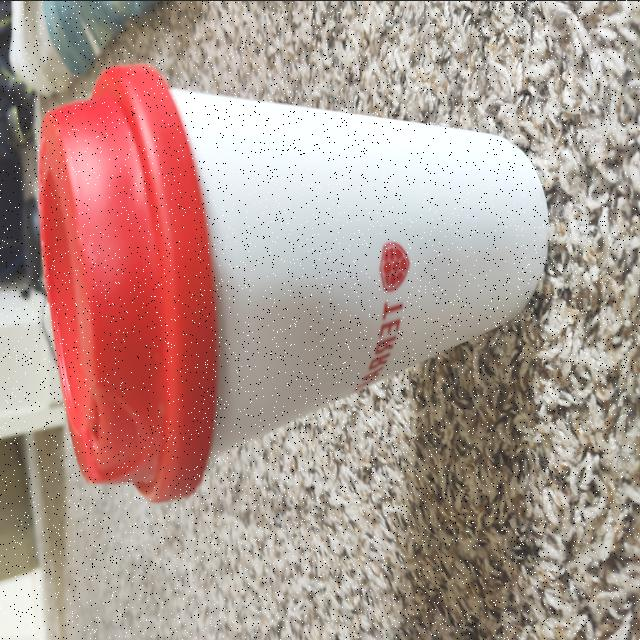mug: (36, 67, 544, 498)
